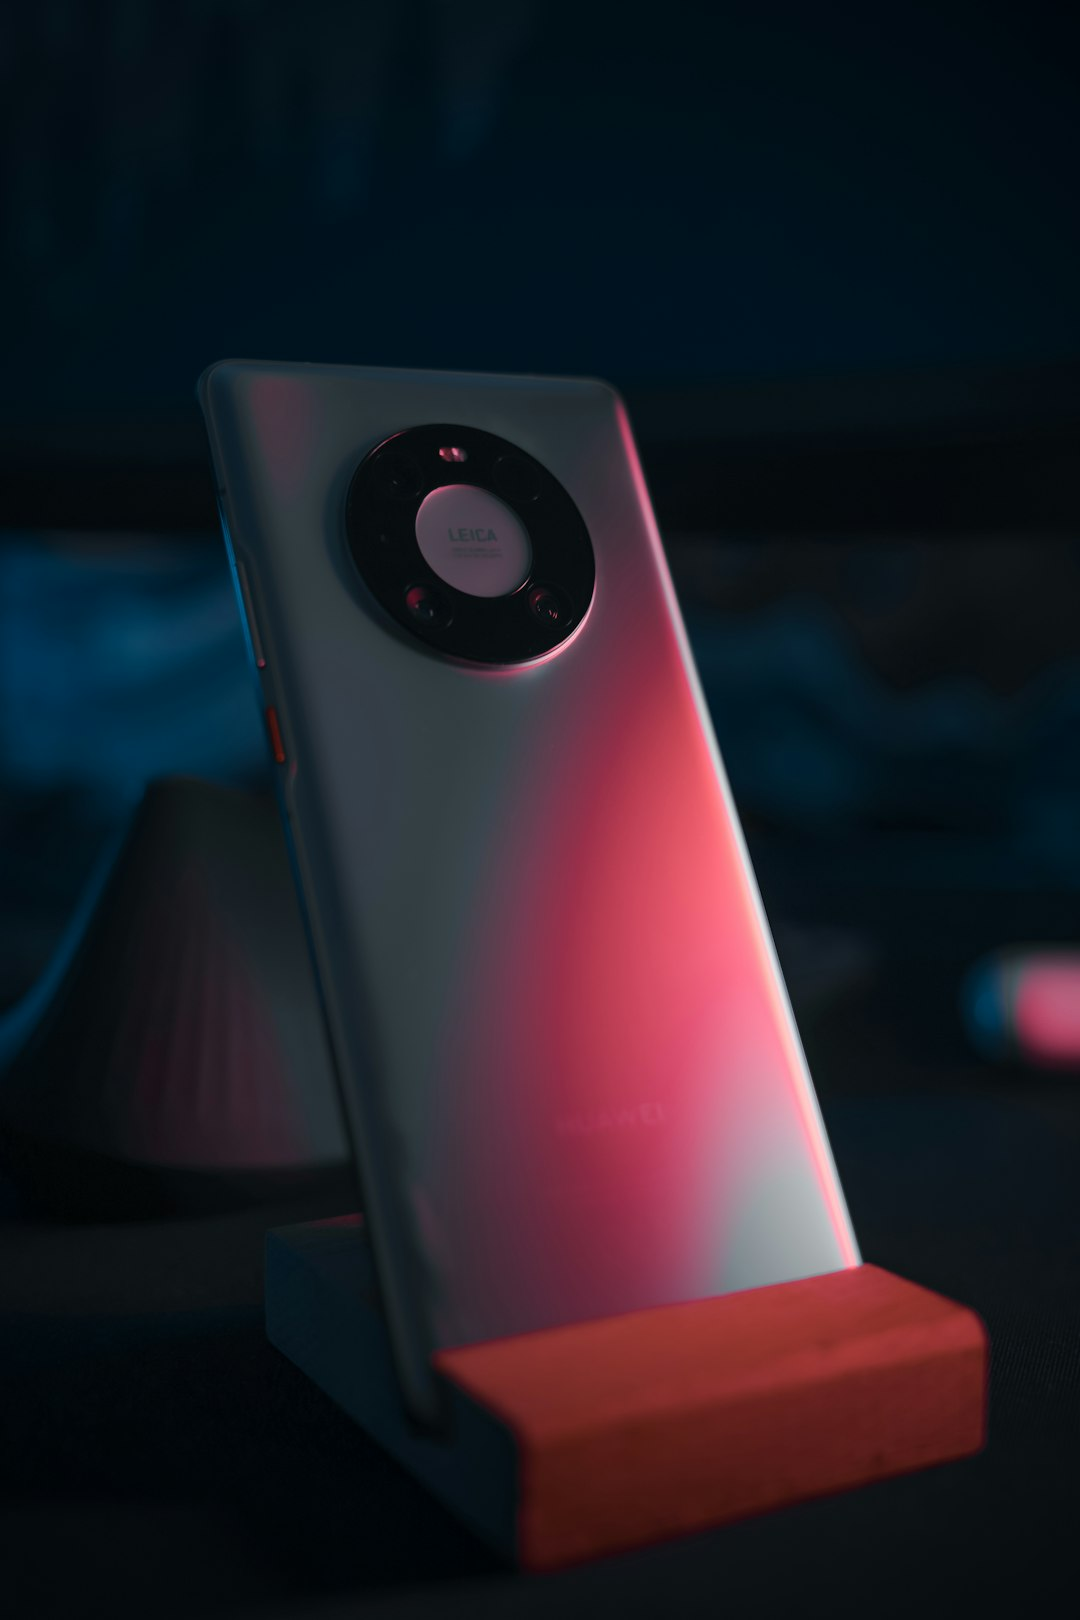phone: (190, 356, 865, 1436)
